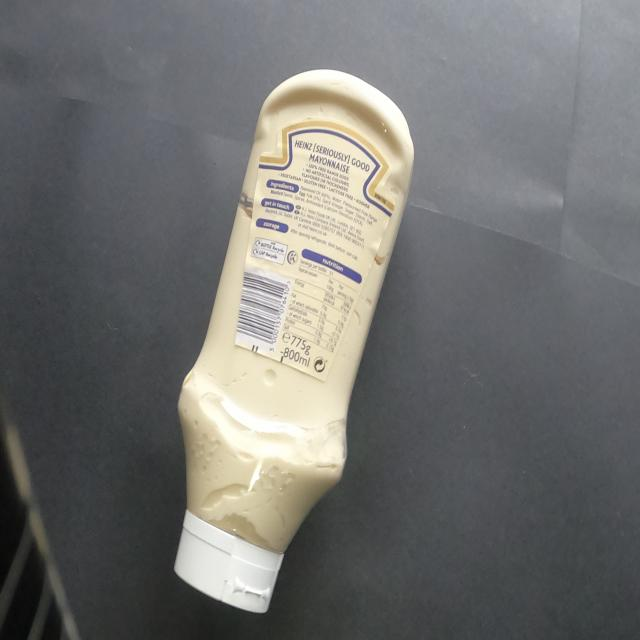Mayonnaise: (170, 61, 427, 624)
